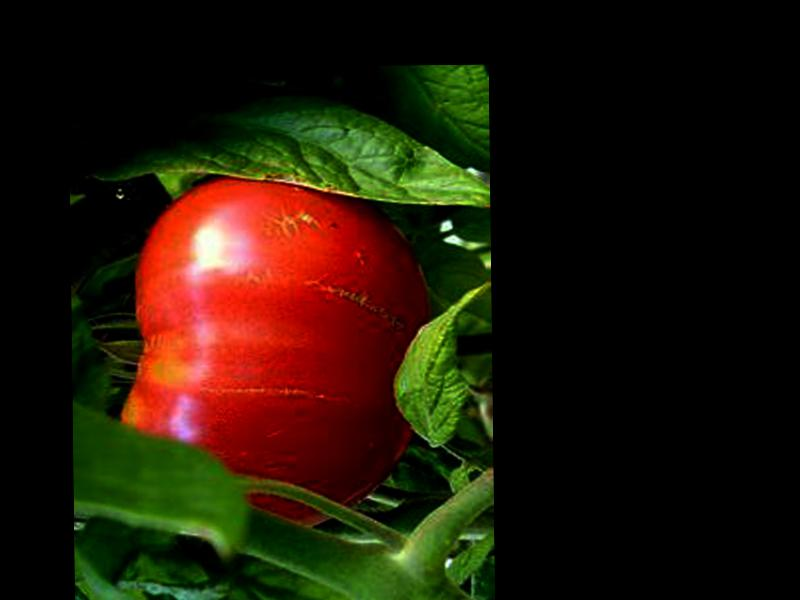Tomato: (116, 170, 430, 527)
